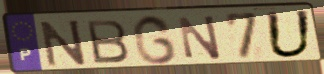7: (222, 12, 261, 62)
B: (84, 18, 132, 66)
G: (131, 14, 179, 66)
N: (38, 18, 89, 69), (176, 13, 224, 61)
U: (263, 9, 315, 60)
